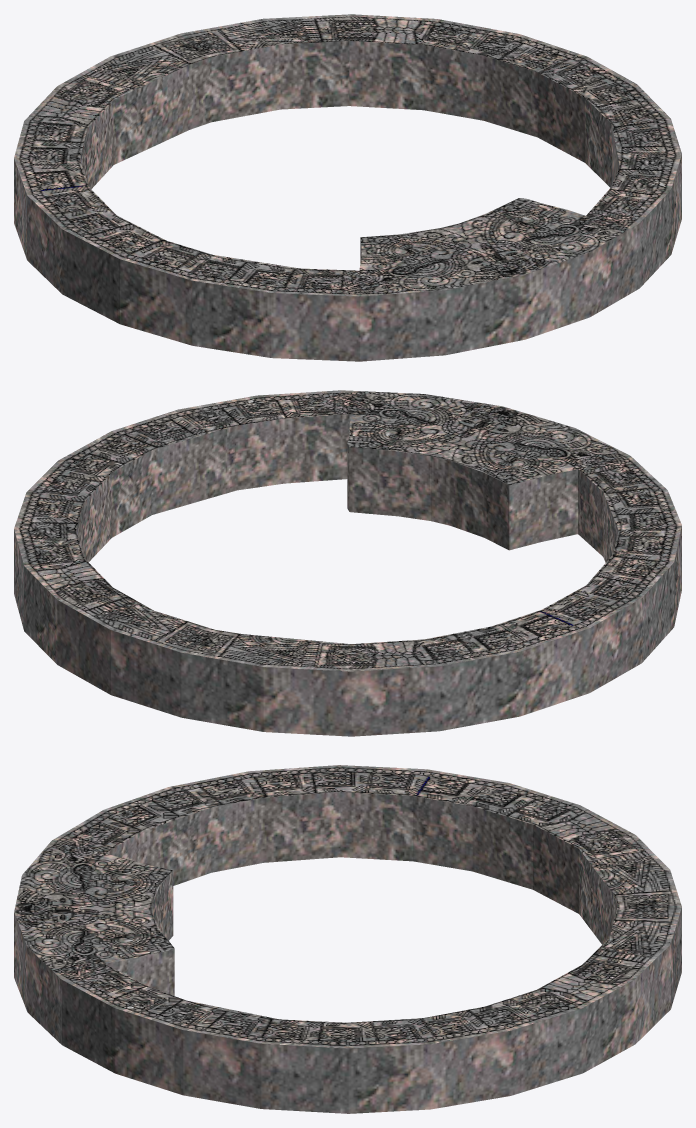
Rendered from aro8.fbx.
3 views of the same model, one above another, from view 1: azimuth 30°, elevation 25°; view 2: azimuth 150°, elevation 25°; view 3: azimuth 270°, elevation 25° (orthographic).
Visible parts, largest first — view 1: Plano; view 2: Plano; view 3: Plano.
Part boxes in pixels (x1,y1,x2,y2): Plano: [14, 14, 681, 361]; Plano: [14, 390, 681, 736]; Plano: [14, 765, 681, 1113].
Bounding box in the file's own units: 260 × 27.95 × 259.
